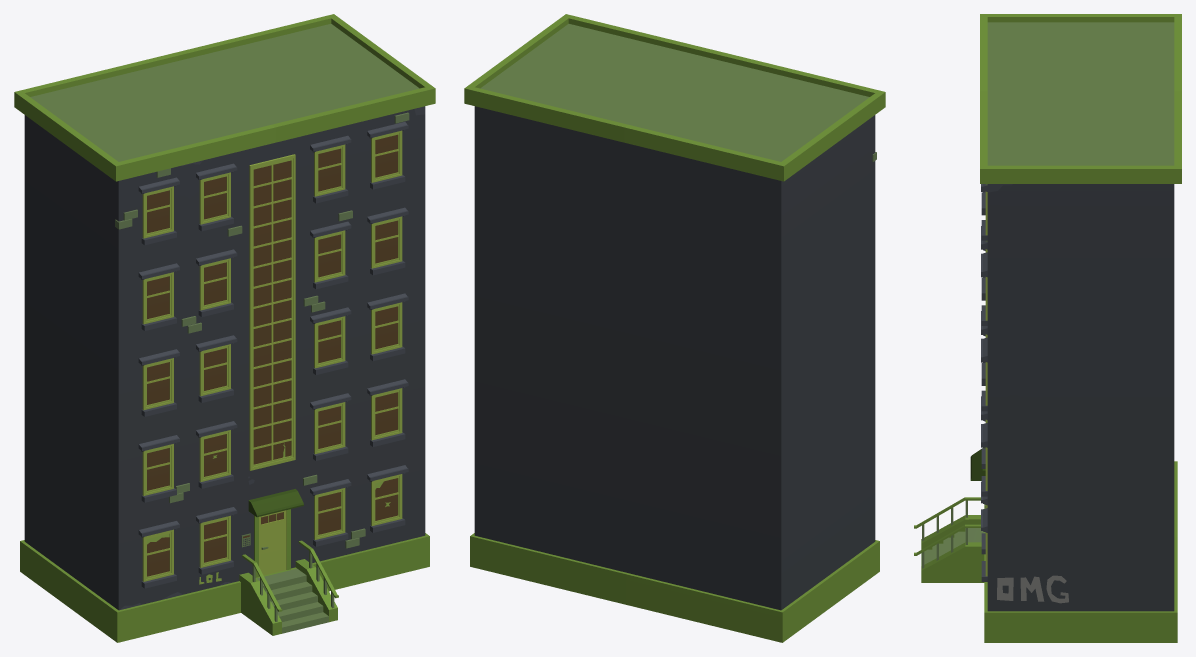
File: OldHouse_02.fbx
3 renders of one model, left to right at view 1: azimuth 30°, elevation 25°; view 2: azimuth 150°, elevation 25°; view 3: azimuth 270°, elevation 25°, orthographic.
Parts seen in each view (by area): view 1: OldHouse_02; view 2: OldHouse_02; view 3: OldHouse_02.
Boxes of the visible parts, x1=… form: OldHouse_02: x1=14, y1=14, x2=435, y2=642; OldHouse_02: x1=464, y1=14, x2=885, y2=642; OldHouse_02: x1=914, y1=14, x2=1181, y2=642.
Bounding box in the file's own units: 10.94 × 15.68 × 8.
